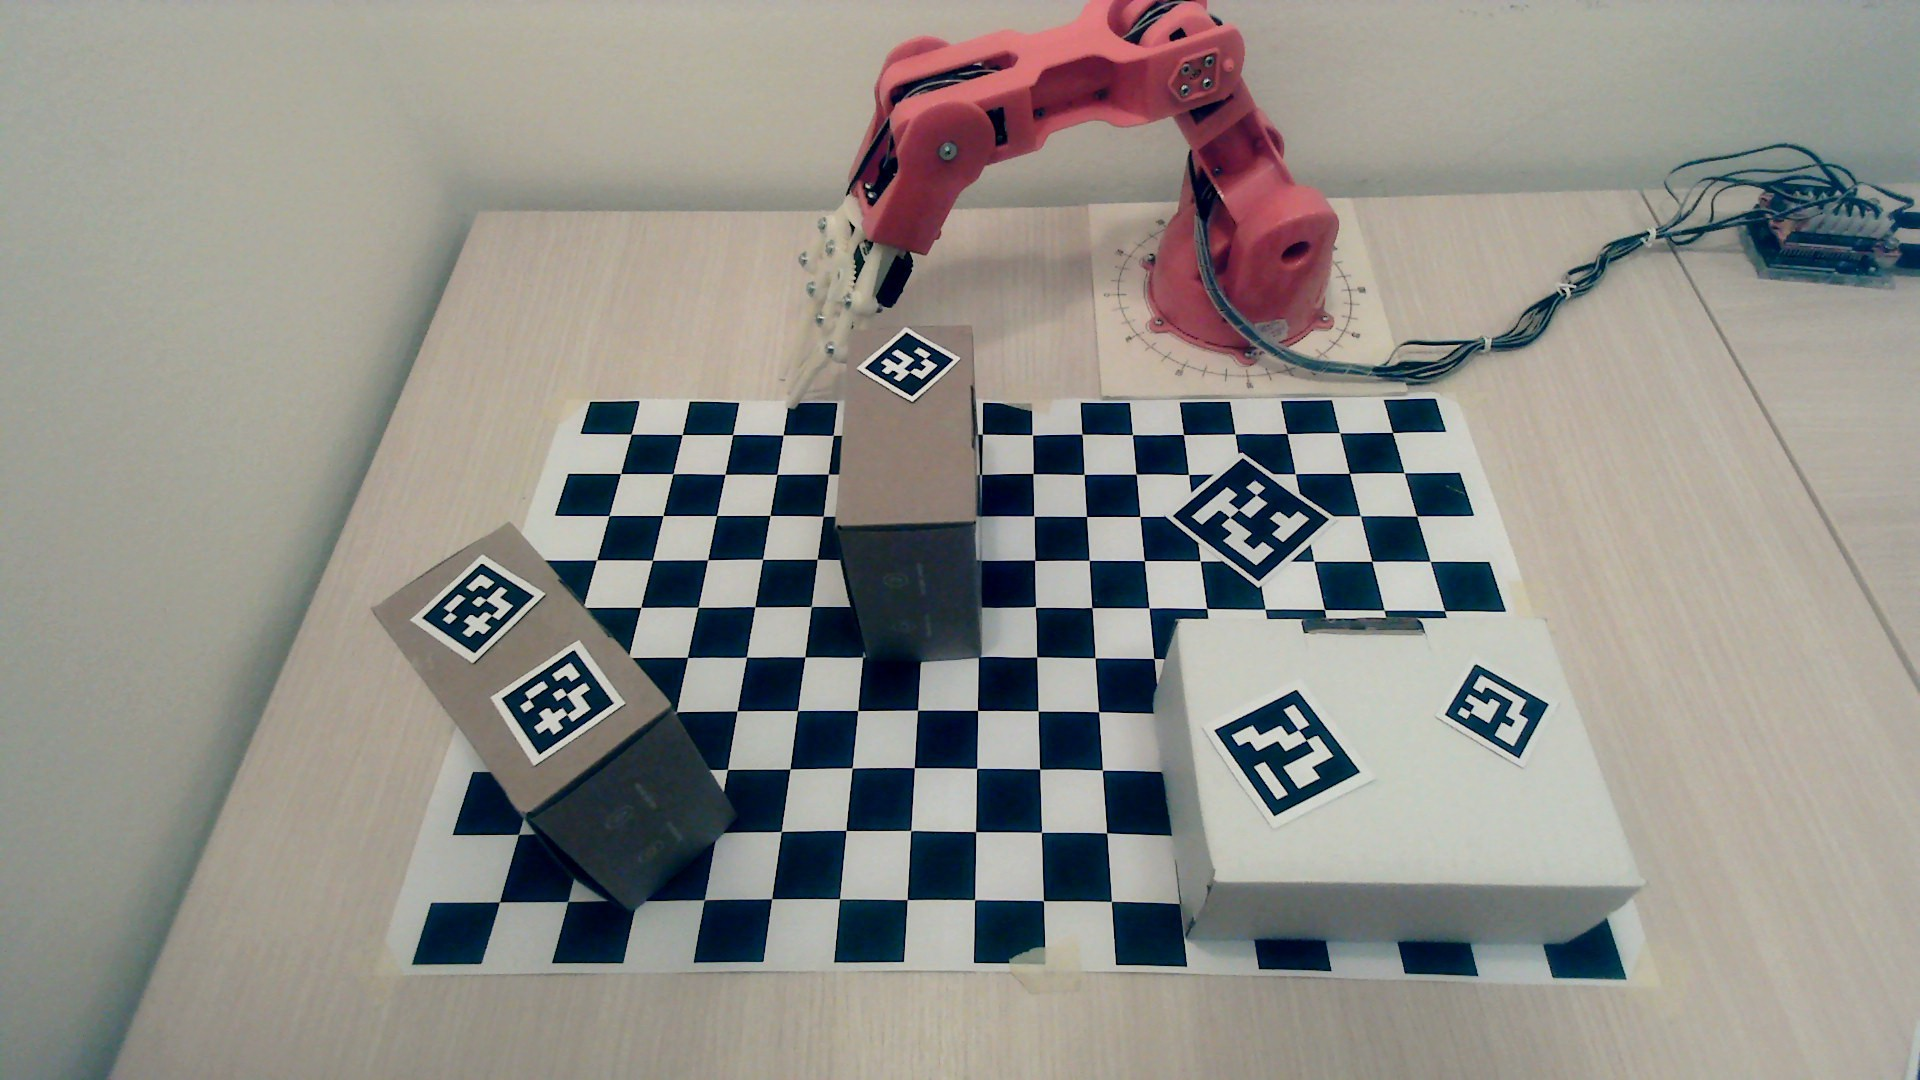marker: (1215, 686, 1361, 818), (1174, 459, 1328, 582), (498, 651, 618, 760), (414, 560, 535, 655), (1443, 662, 1553, 765), (861, 331, 951, 400)
